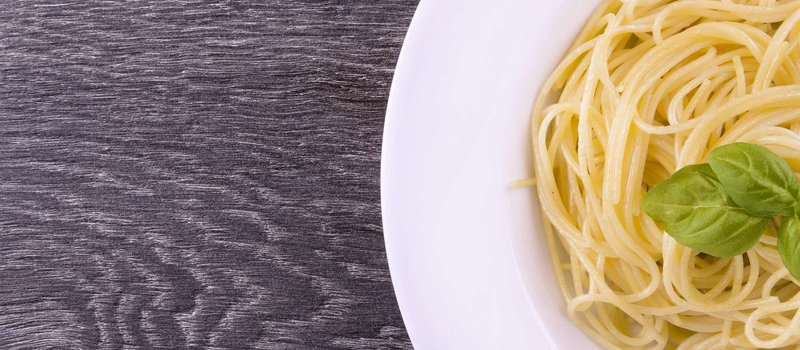chopped lettuce: (658, 147, 800, 261)
plain spaghetti: (537, 1, 800, 350)
